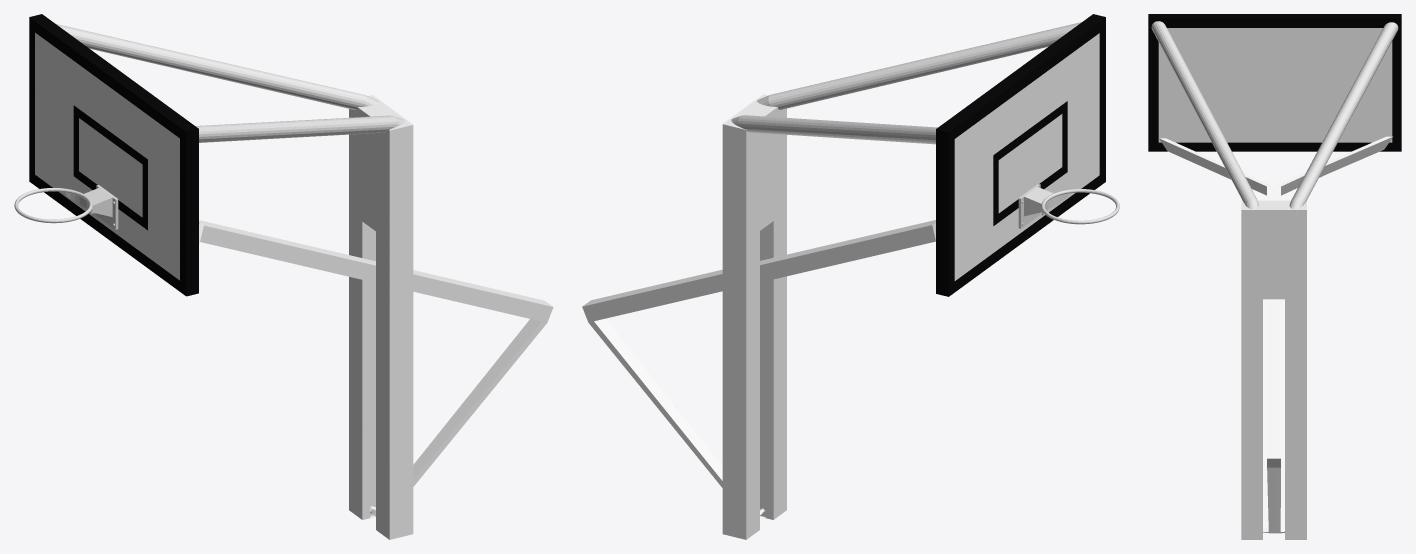
Rendered from aro de basquet.fbx.
3 renders of one model, left to right at view 1: azimuth 30°, elevation 25°; view 2: azimuth 150°, elevation 25°; view 3: azimuth 270°, elevation 25°, orthographic. The views are drawn at different scales.
Parts seen in each view (by area): view 1: Cube.006; view 2: Cube.006; view 3: Cube.006.
Boxes of the visible parts, x1,y1,x2,y2 form: Cube.006: [14, 14, 553, 539]; Cube.006: [582, 14, 1119, 539]; Cube.006: [1148, 14, 1401, 539].
Bounding box in the file's own units: 442 × 411 × 228.
4 materials, 3 textured.
